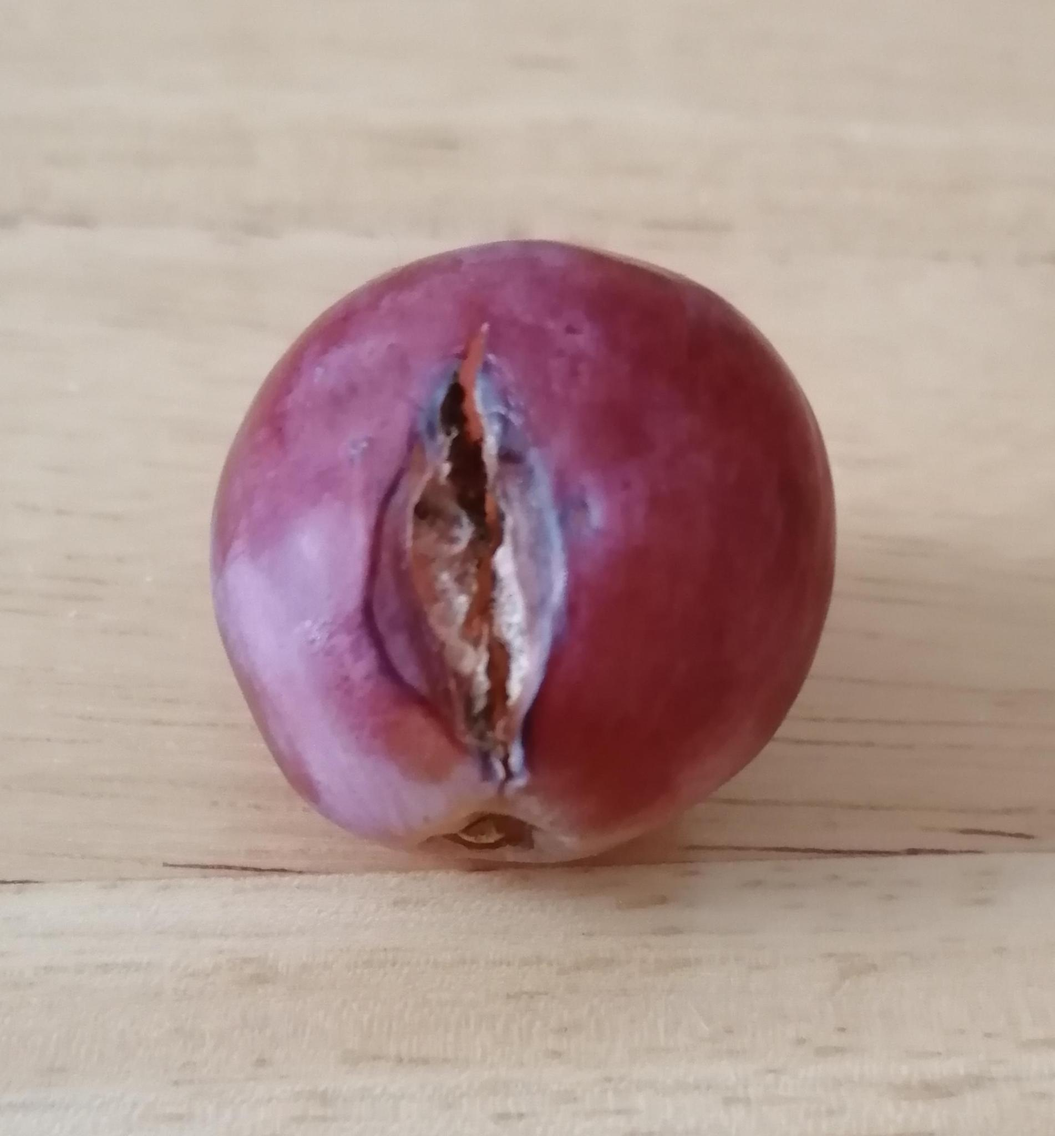Grape Overripe: (211, 241, 836, 856)
